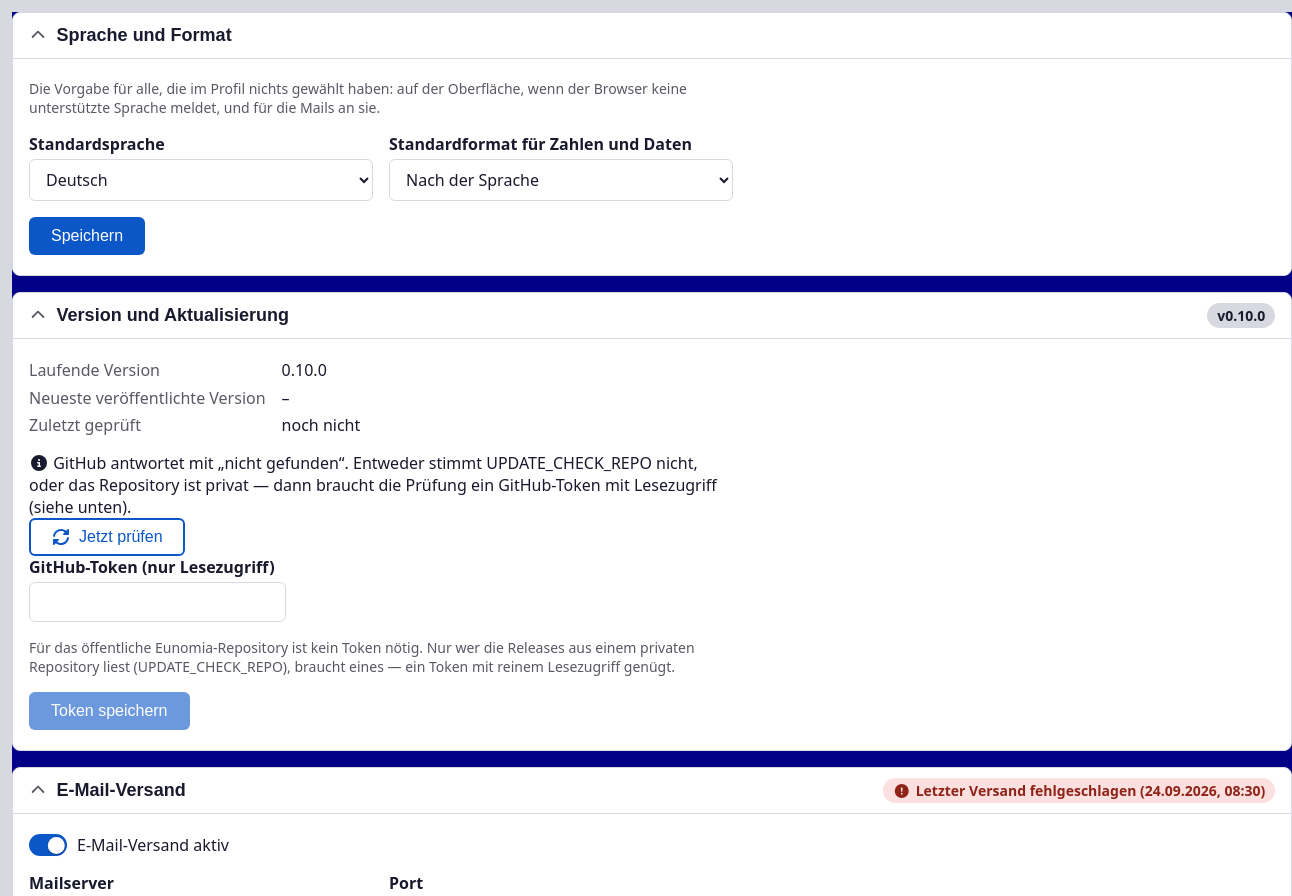
Test: SettingsView › folds a section away and says so to assistive technology
Click the button "Sprache und Format": (144, 35) [13,13,1263,58]
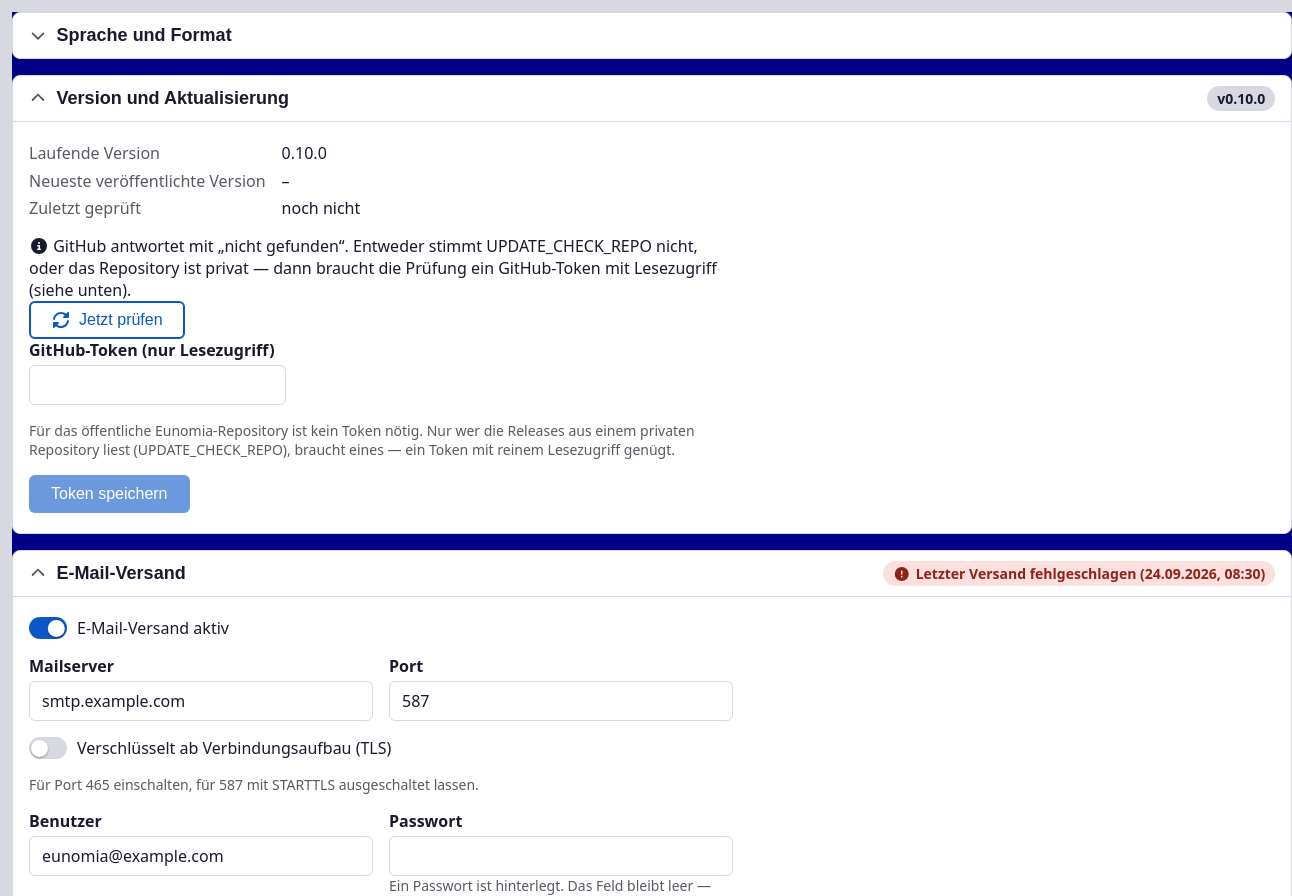
Expected: the button "Sprache und Format" is collapsed, [13,13,1263,58]
